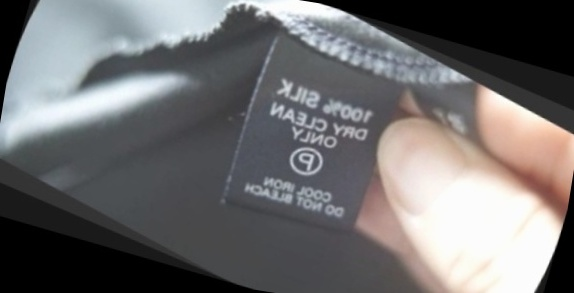dry_clean_any_solvent_except_trichloroethylene: (277, 132, 334, 188)
